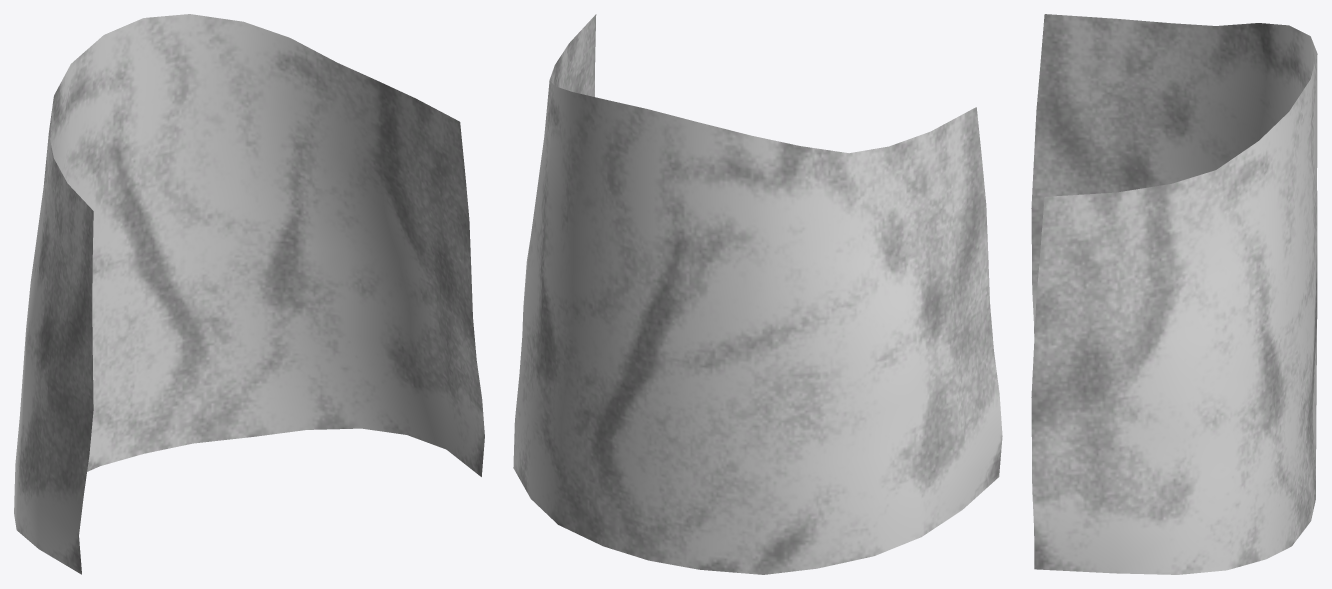
File: clo_moriaorc_v1_helmet.fbx
The picture shows the model from 3 angles, left to right: view 1: azimuth 30°, elevation 25°; view 2: azimuth 150°, elevation 25°; view 3: azimuth 270°, elevation 25°; orthographic projection. The views are drawn at different scales.
Visible parts, largest first — view 1: clo_moriaorc_v1_helmet; view 2: clo_moriaorc_v1_helmet; view 3: clo_moriaorc_v1_helmet.
Boxes of the visible parts, x1,y1,x2,y2 form: clo_moriaorc_v1_helmet: (14,14,484,574); clo_moriaorc_v1_helmet: (513,14,1002,574); clo_moriaorc_v1_helmet: (1031,14,1317,574).
Size of the model in its own units: 0.1922 by 0.1139 by 0.1956.
1 material, 1 textured.
